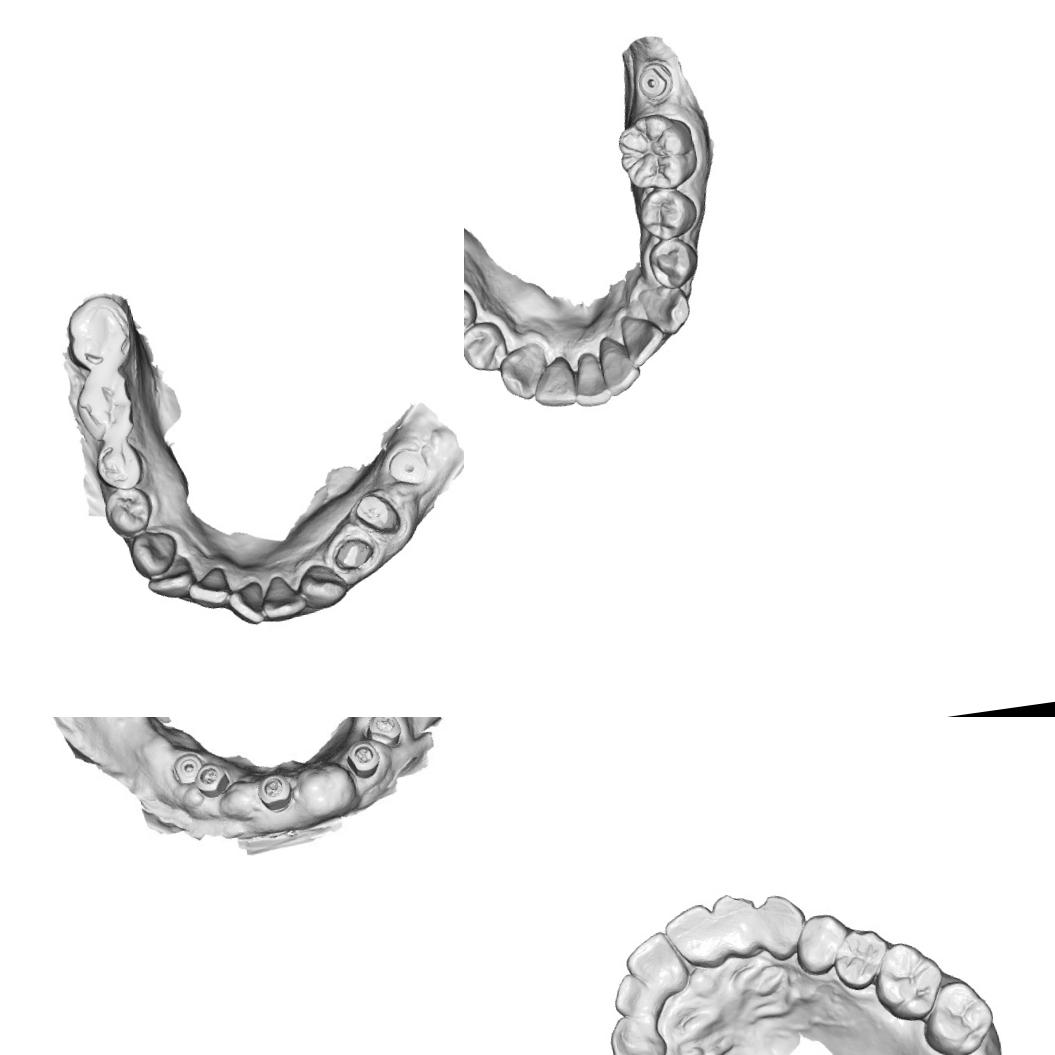canine: (752, 890, 812, 964), (496, 340, 552, 403), (635, 281, 693, 339), (294, 559, 350, 612), (606, 1010, 670, 1055), (128, 528, 182, 580)
crown: (351, 486, 405, 542), (329, 531, 377, 574)
implant: (384, 444, 433, 492), (634, 55, 677, 109), (256, 769, 295, 813), (346, 740, 382, 781), (167, 752, 204, 786), (365, 717, 403, 748), (195, 763, 228, 794)
incisor: (622, 927, 692, 999), (661, 900, 728, 975), (710, 890, 762, 964), (594, 331, 644, 399), (609, 970, 664, 1024), (528, 354, 579, 411), (618, 310, 668, 368), (569, 348, 613, 410), (258, 571, 310, 623), (185, 564, 233, 612), (144, 562, 198, 603), (224, 580, 268, 628)
molar: (612, 108, 701, 196), (868, 937, 948, 1026), (60, 290, 137, 375), (916, 976, 998, 1055), (69, 366, 140, 446)
premolar: (829, 924, 894, 993), (790, 910, 854, 978), (634, 182, 700, 244), (644, 233, 702, 292), (90, 436, 146, 494), (100, 484, 157, 540), (464, 318, 510, 377), (464, 283, 481, 342)
